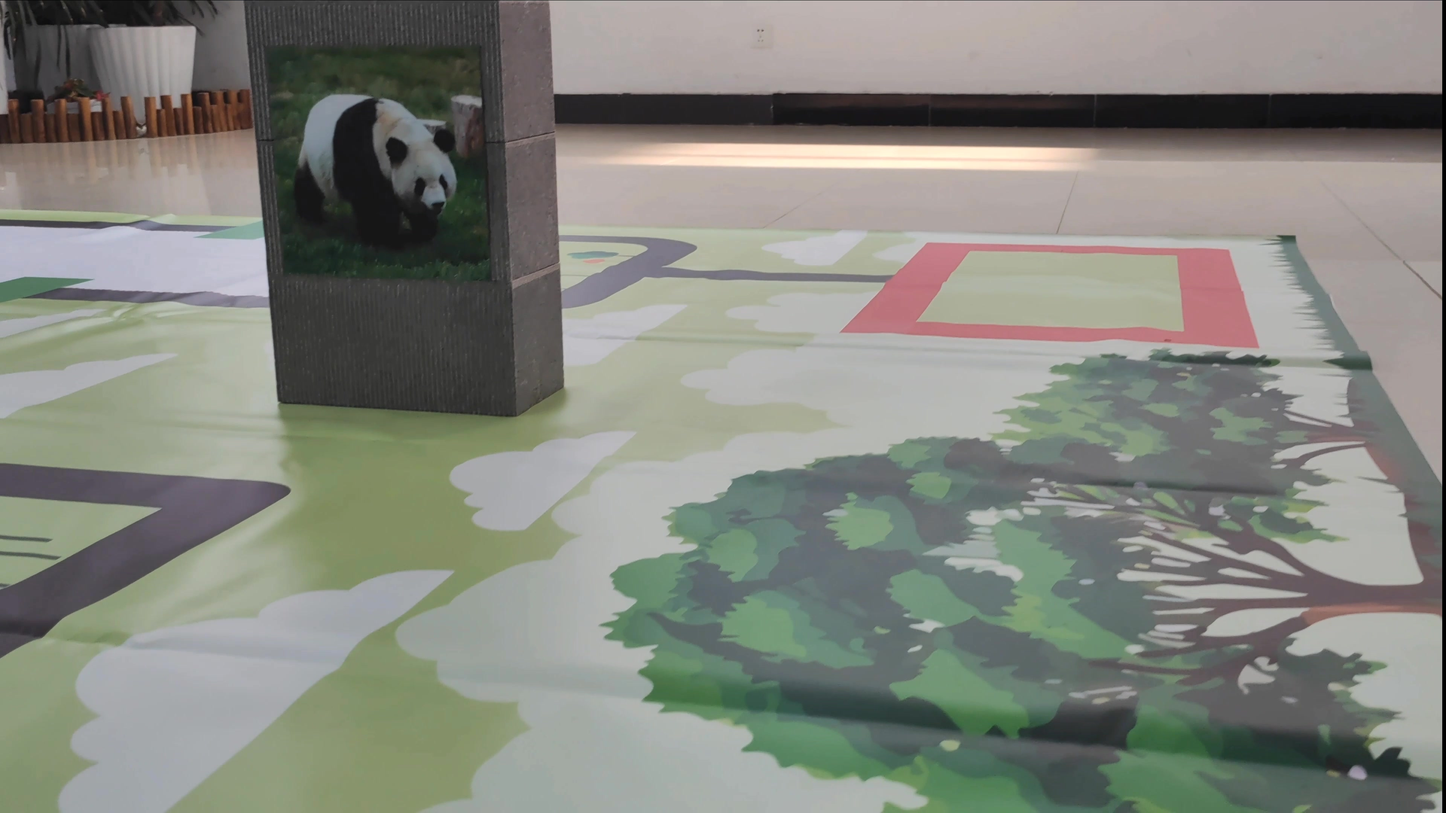panda: (270, 67, 466, 248)
